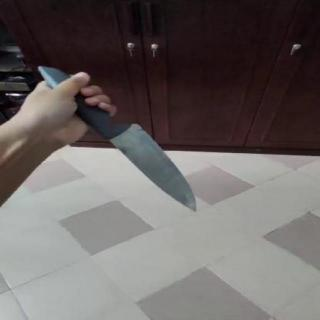knife: (91, 128, 213, 215)
